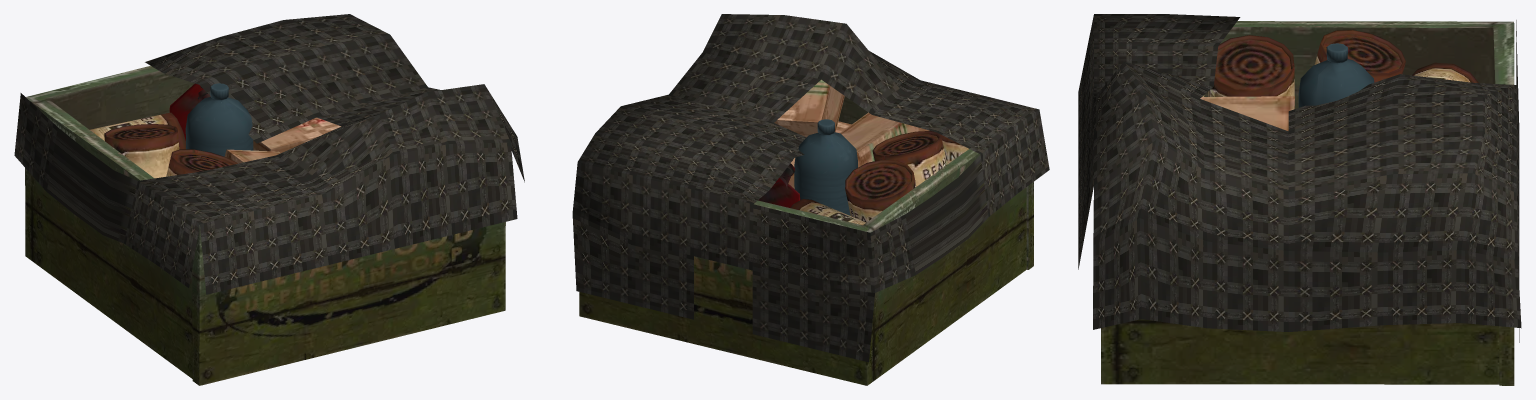
The model's file is crate_shore.glb.
3 renders of one model, left to right at view 1: azimuth 30°, elevation 25°; view 2: azimuth 150°, elevation 25°; view 3: azimuth 270°, elevation 25°, orthographic. The views are drawn at different scales.
Visible parts, largest first — view 1: rationbox_LOD0; view 2: rationbox_LOD0; view 3: rationbox_LOD0.
Part boxes in pixels (<box>): rationbox_LOD0: <box>14,14,524,385</box>; rationbox_LOD0: <box>572,14,1049,385</box>; rationbox_LOD0: <box>1078,14,1521,385</box>.
Size of the model in its own units: 0.4969 by 0.3004 by 0.4657.
Materials: 4 (4 with a texture image).
